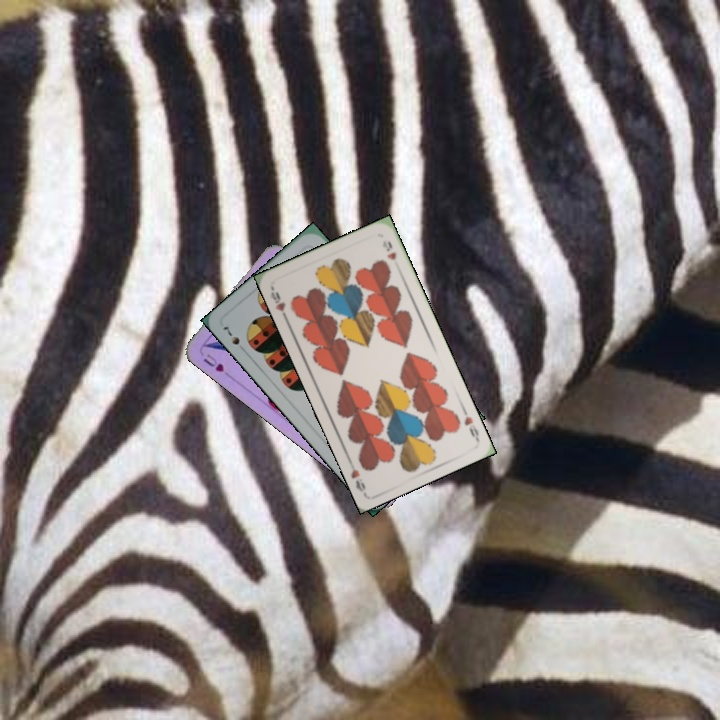H9: (266, 284, 290, 323), (459, 404, 482, 443)
HU: (199, 349, 227, 375)
S7: (218, 322, 249, 355)
